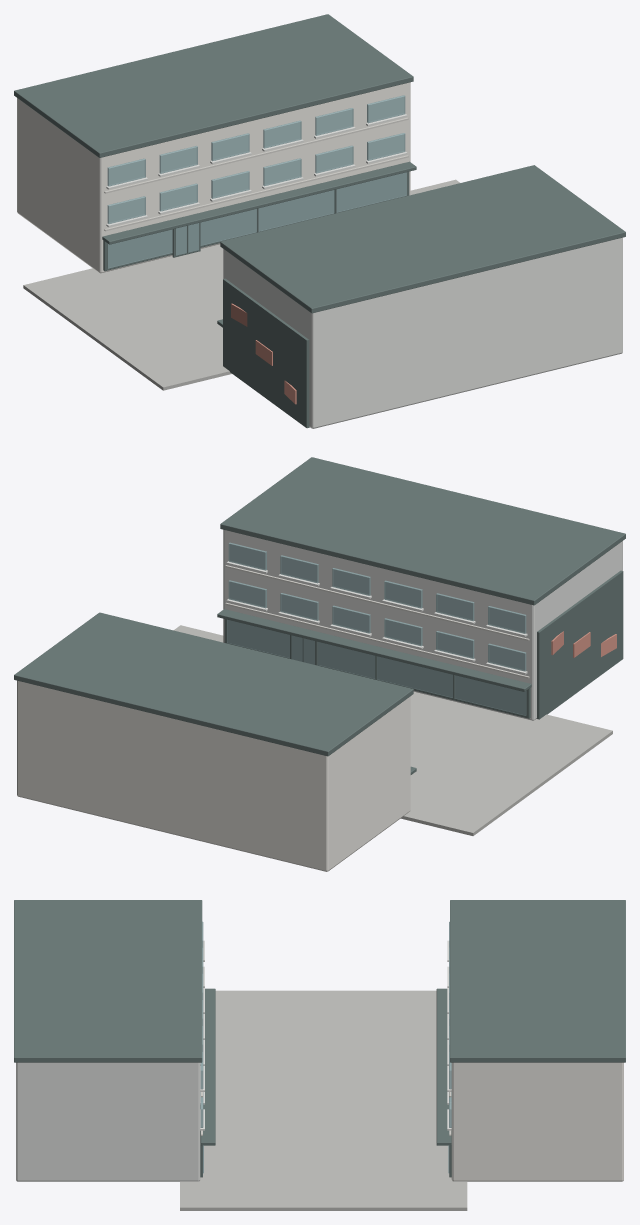
Rendered from xingfuli-west-materials.glb.
3 renders of one model, top to bottom at view 1: azimuth 30°, elevation 25°; view 2: azimuth 150°, elevation 25°; view 3: azimuth 270°, elevation 25°, orthographic. The views are drawn at different scales.
Parts seen in each view (by area): view 1: xingfuli-west-materials; view 2: xingfuli-west-materials; view 3: xingfuli-west-materials.
Boxes of the visible parts, x1,y1,x2,y2 form: xingfuli-west-materials: [14, 14, 625, 428]; xingfuli-west-materials: [14, 457, 625, 871]; xingfuli-west-materials: [14, 900, 625, 1210].
Size of the model in its own units: 25 by 6.89 by 29.83.
